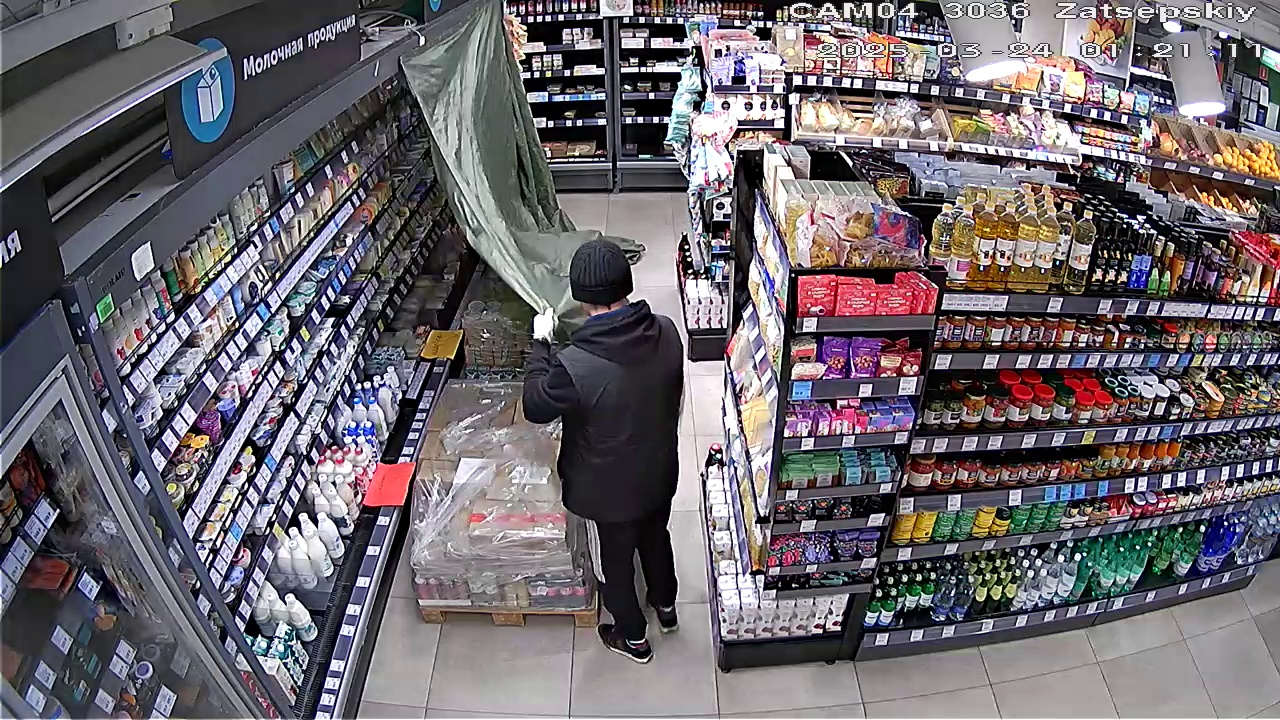Human: (517, 229, 681, 660)
dome: (397, 26, 564, 294)
pallet: (417, 372, 571, 611)
